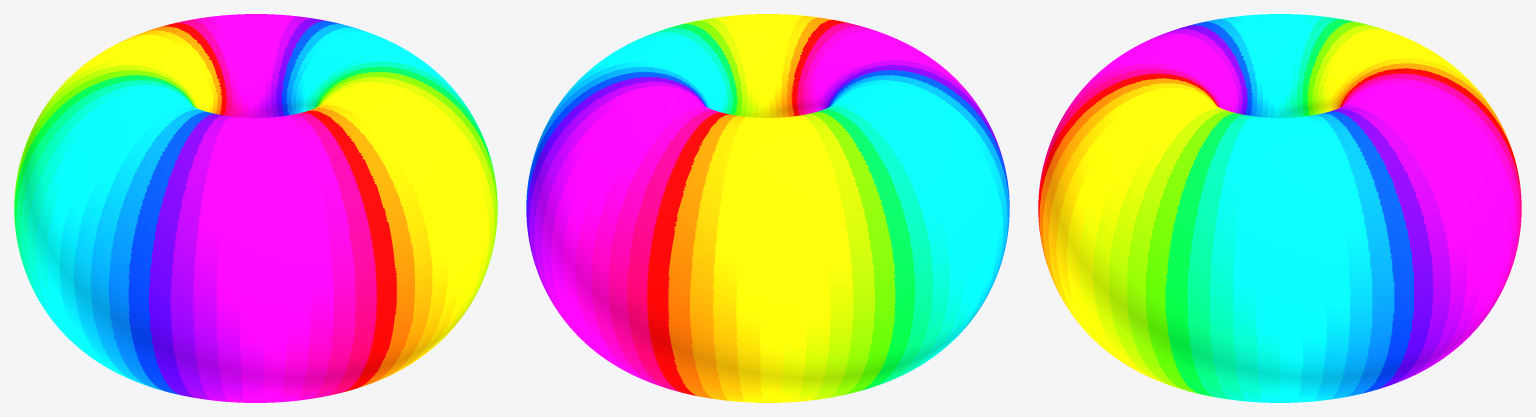
Rendered from orbital_n4_l2_m2_complex_phase.fbx.
3 renders of one model, left to right at view 1: azimuth 30°, elevation 25°; view 2: azimuth 150°, elevation 25°; view 3: azimuth 270°, elevation 25°, orthographic.
Visible parts, largest first — view 1: orbital_n4_l2_m2_complex_phase; view 2: orbital_n4_l2_m2_complex_phase; view 3: orbital_n4_l2_m2_complex_phase.
Boxes of the visible parts, <box> form: orbital_n4_l2_m2_complex_phase: <box>14,14,497,402</box>; orbital_n4_l2_m2_complex_phase: <box>526,14,1009,402</box>; orbital_n4_l2_m2_complex_phase: <box>1038,14,1521,402</box>.
Size of the model in its own units: 6844 by 4214 by 6844.
